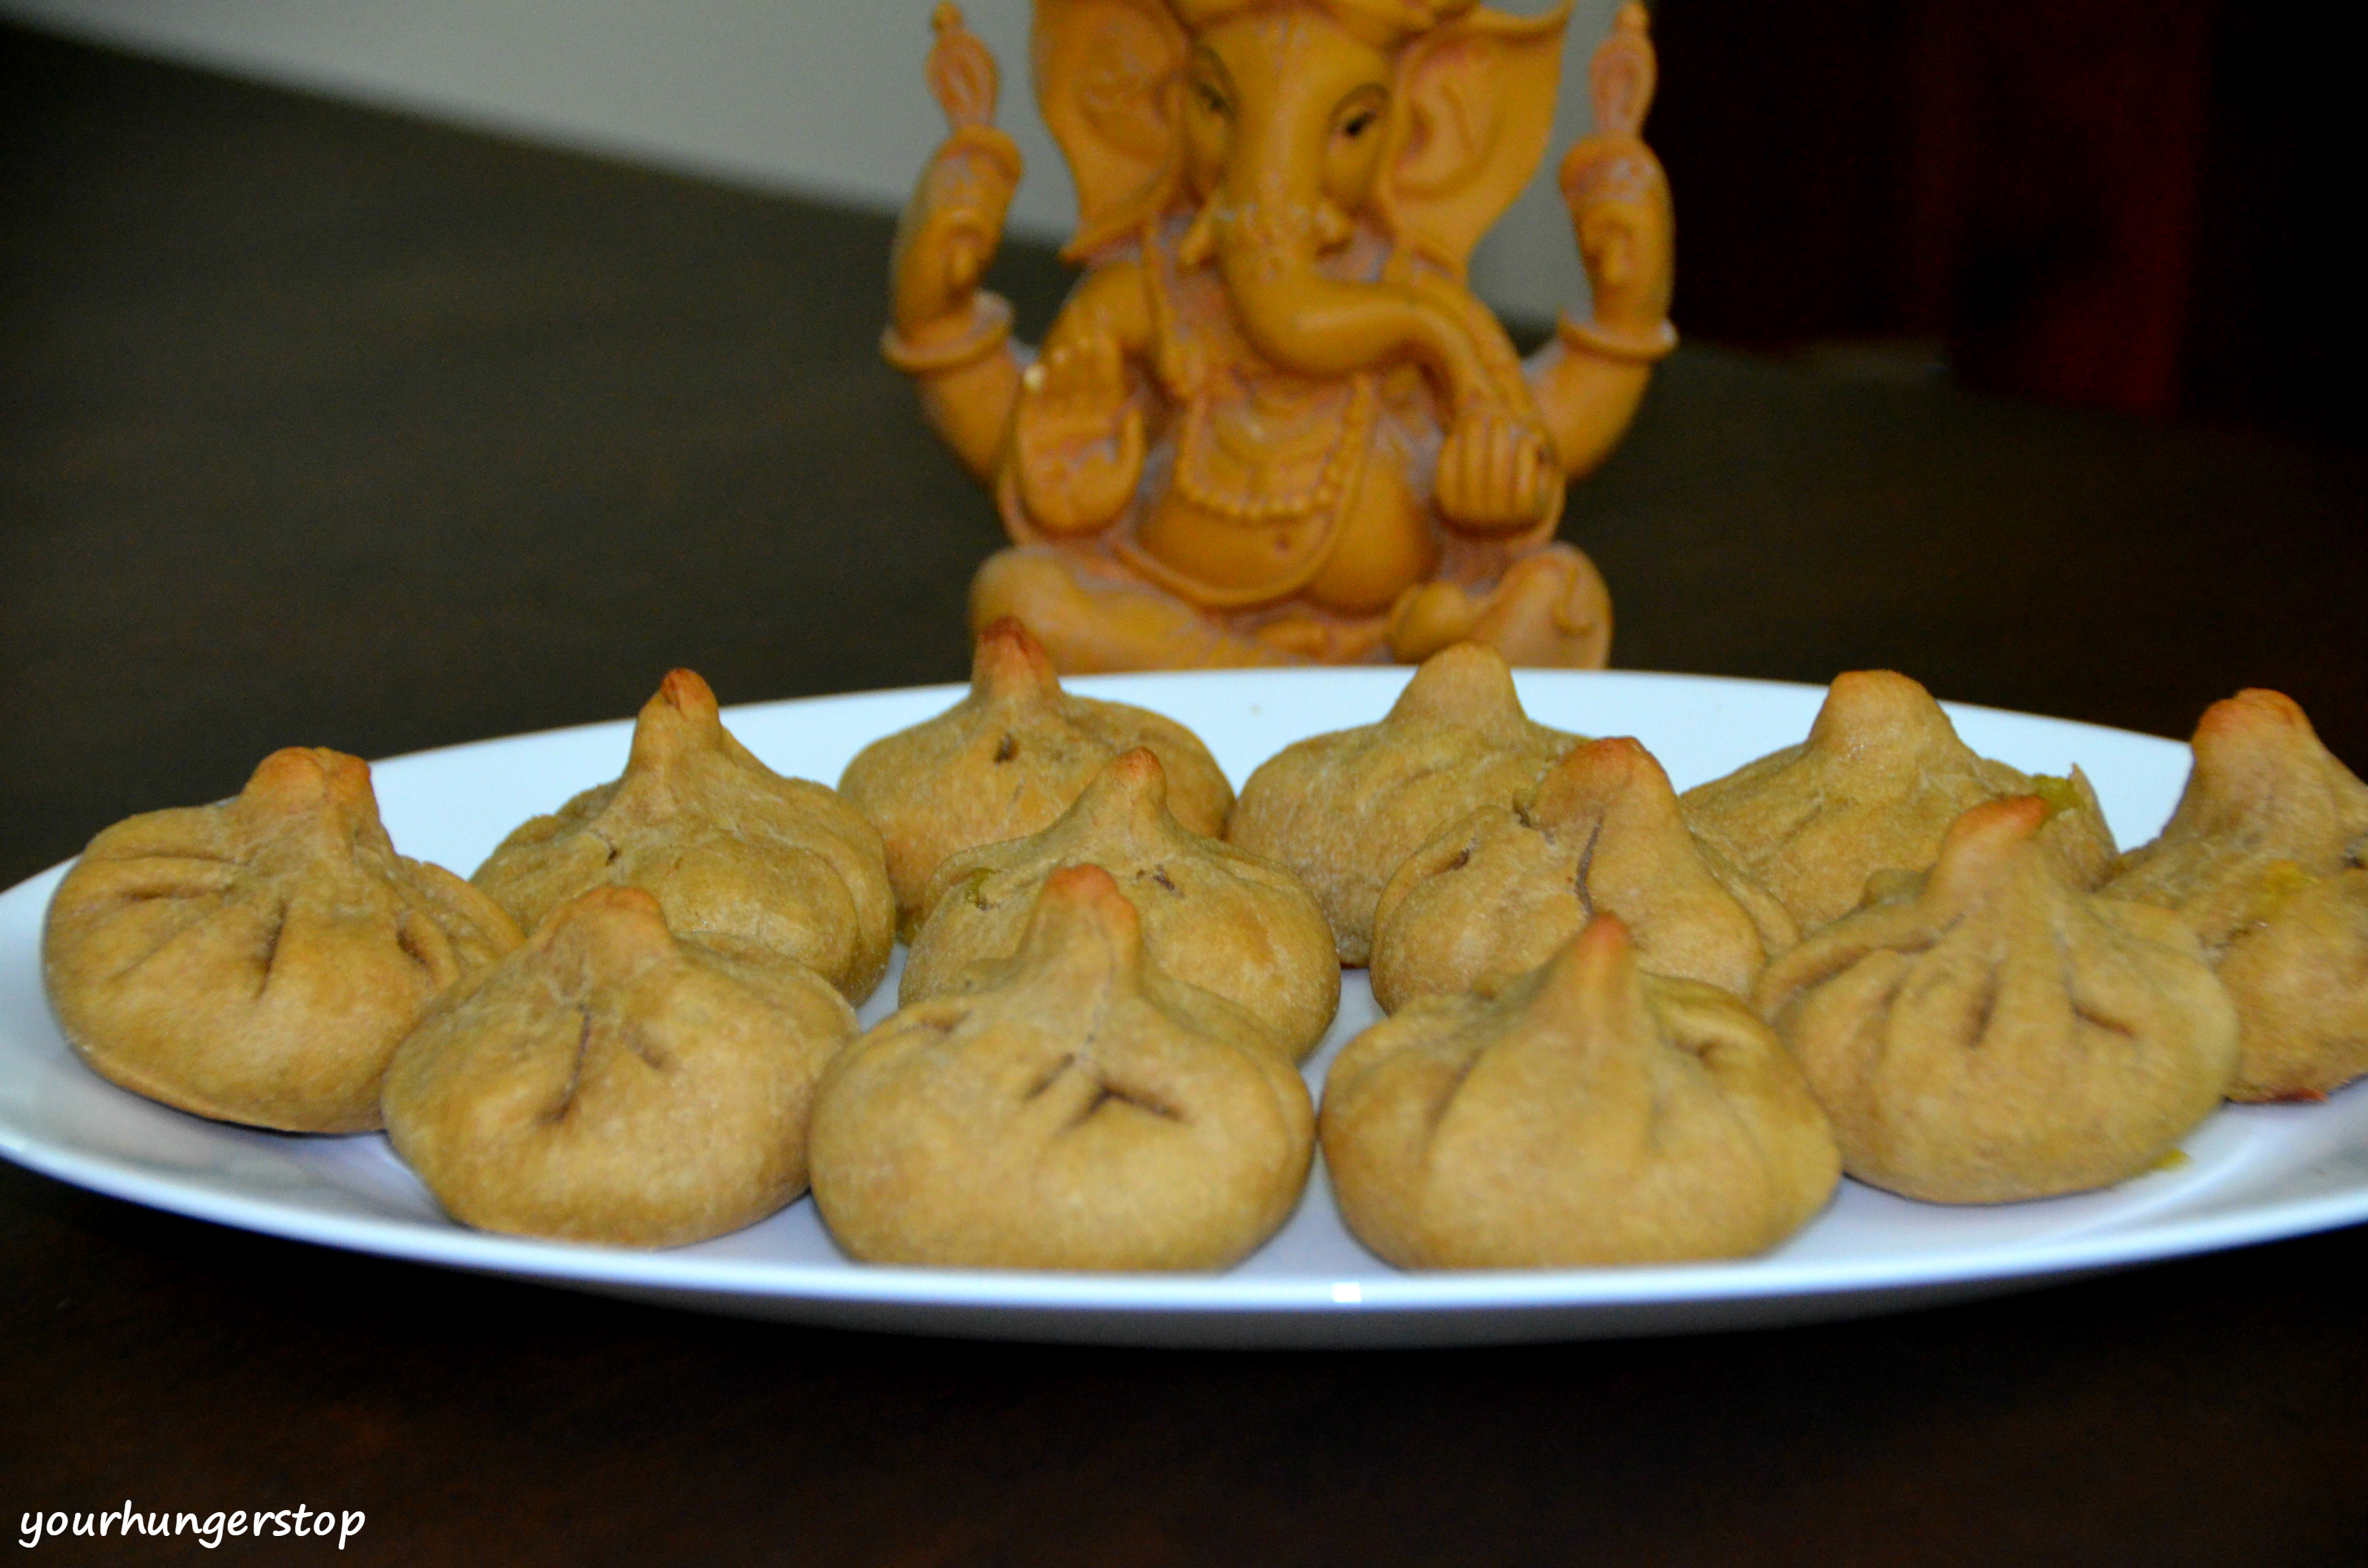modak: (784, 886, 1386, 1293), (51, 730, 548, 1115), (1771, 803, 2270, 1165), (1372, 927, 1883, 1272), (424, 898, 872, 1234), (1306, 698, 1776, 984), (530, 690, 922, 996), (863, 665, 1297, 915)
